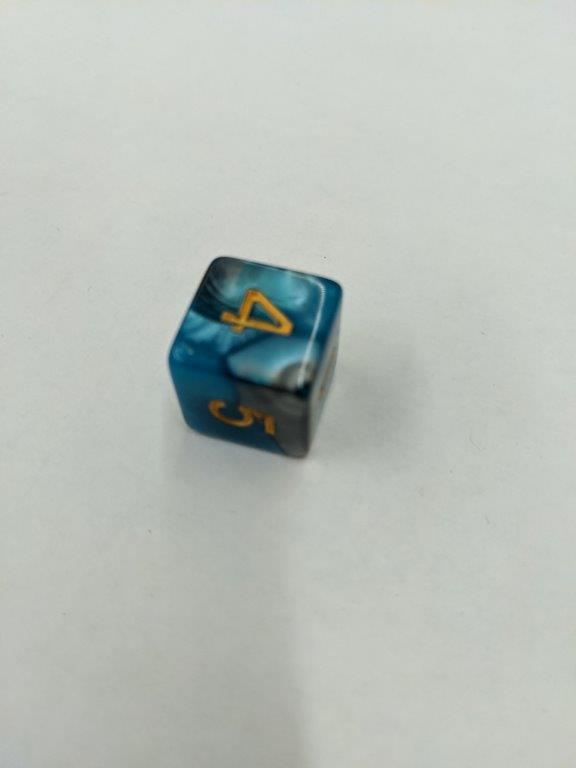d6-4: (166, 254, 344, 457)
